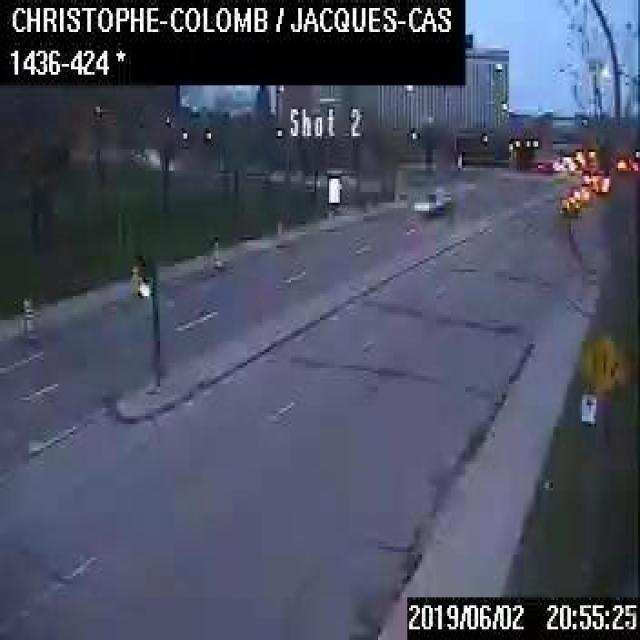construction: (22, 296, 31, 336), (212, 233, 218, 262)
vehicle: (413, 188, 450, 214), (571, 180, 595, 202), (590, 167, 609, 191), (560, 193, 580, 213), (553, 154, 573, 173), (580, 165, 596, 183)
